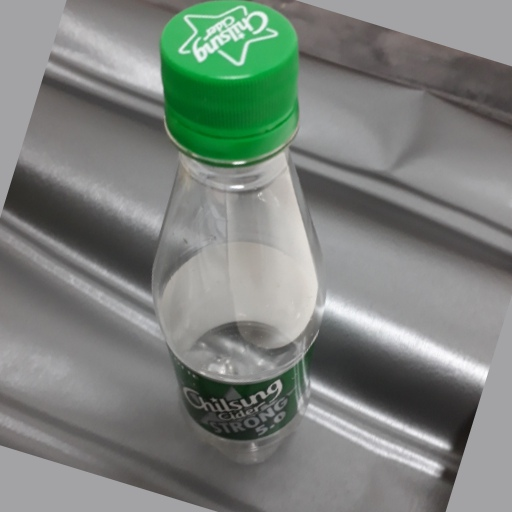Plastic_0: (148, 1, 328, 468)
